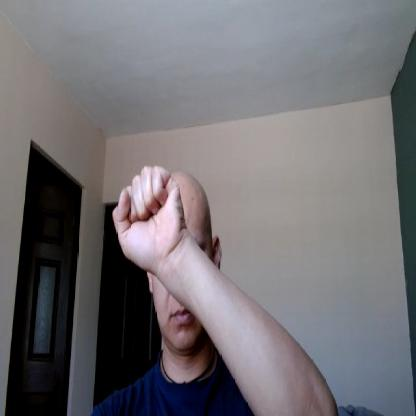S: (112, 164, 183, 270)
